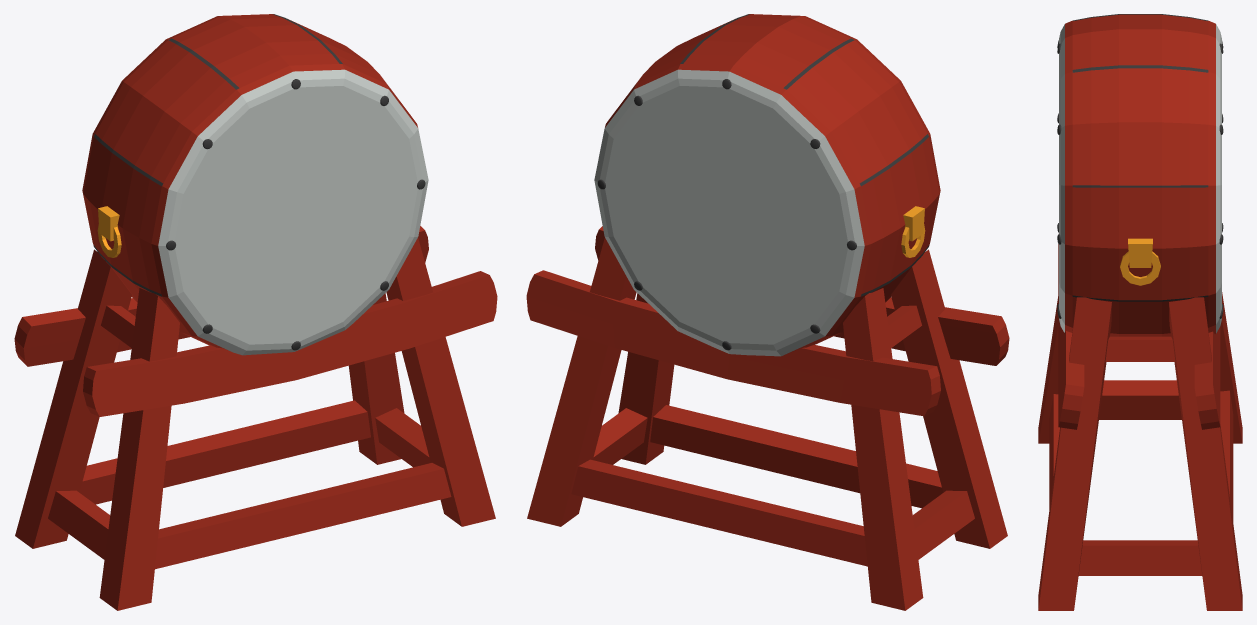
Rendered from Gonge_3.fbx.
3 views of the same model, side by side, from view 1: azimuth 30°, elevation 25°; view 2: azimuth 150°, elevation 25°; view 3: azimuth 270°, elevation 25° (orthographic).
Visible parts, largest first — view 1: Gonge_3; view 2: Gonge_3; view 3: Gonge_3.
Part boxes in pixels (x1,y1,x2,y2): Gonge_3: [14, 14, 497, 610]; Gonge_3: [526, 14, 1009, 610]; Gonge_3: [1038, 14, 1242, 610].
Size of the model in its own units: 114 by 132 by 49.89.
